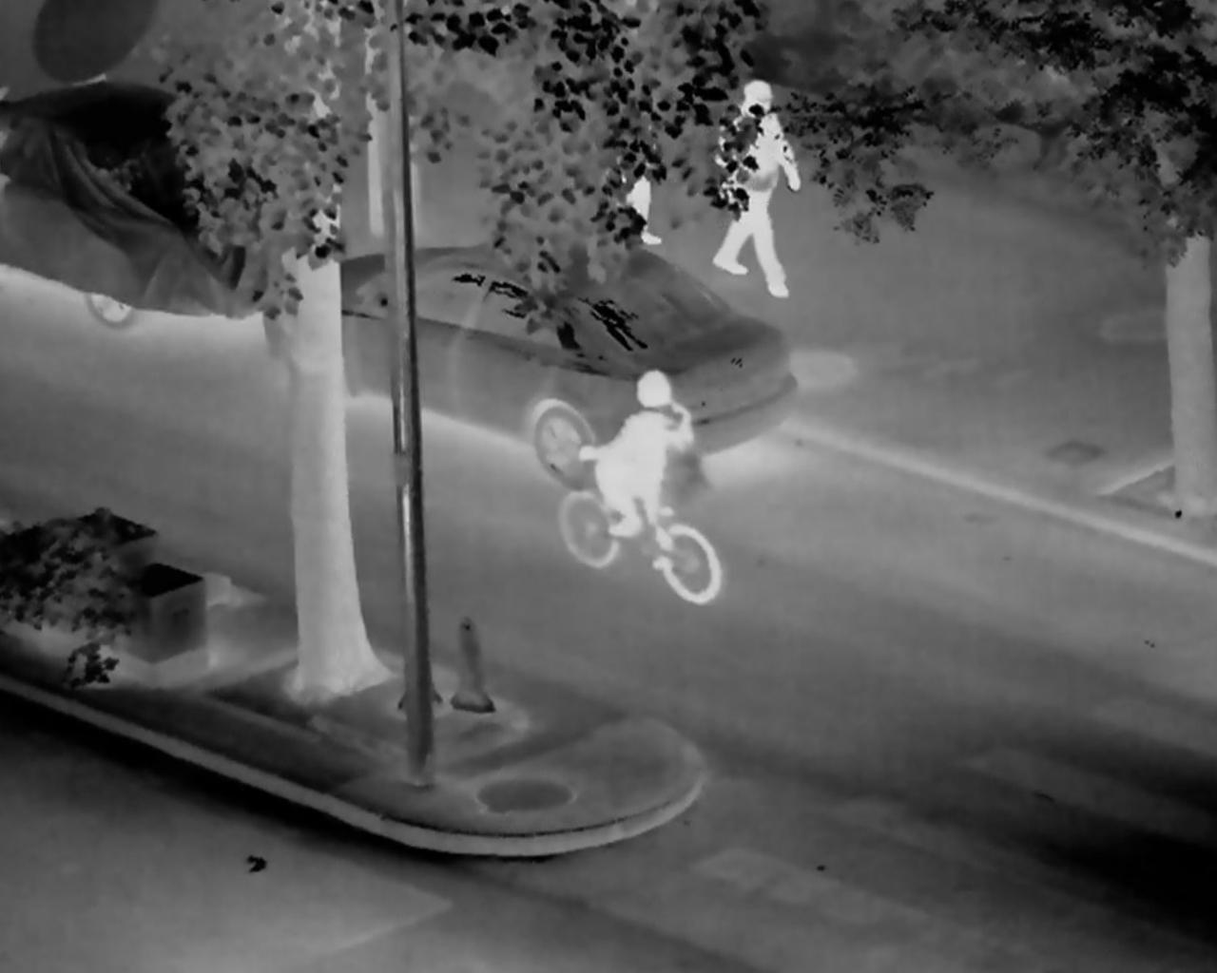person: (574, 368, 699, 546), (715, 80, 805, 300), (607, 108, 666, 248)
